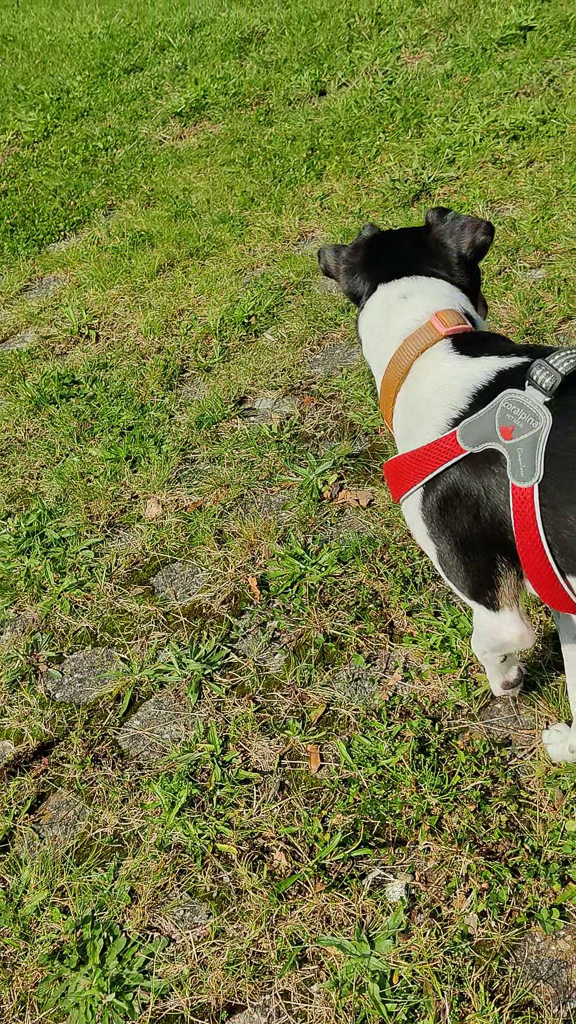Dog: (289, 189, 576, 786)
